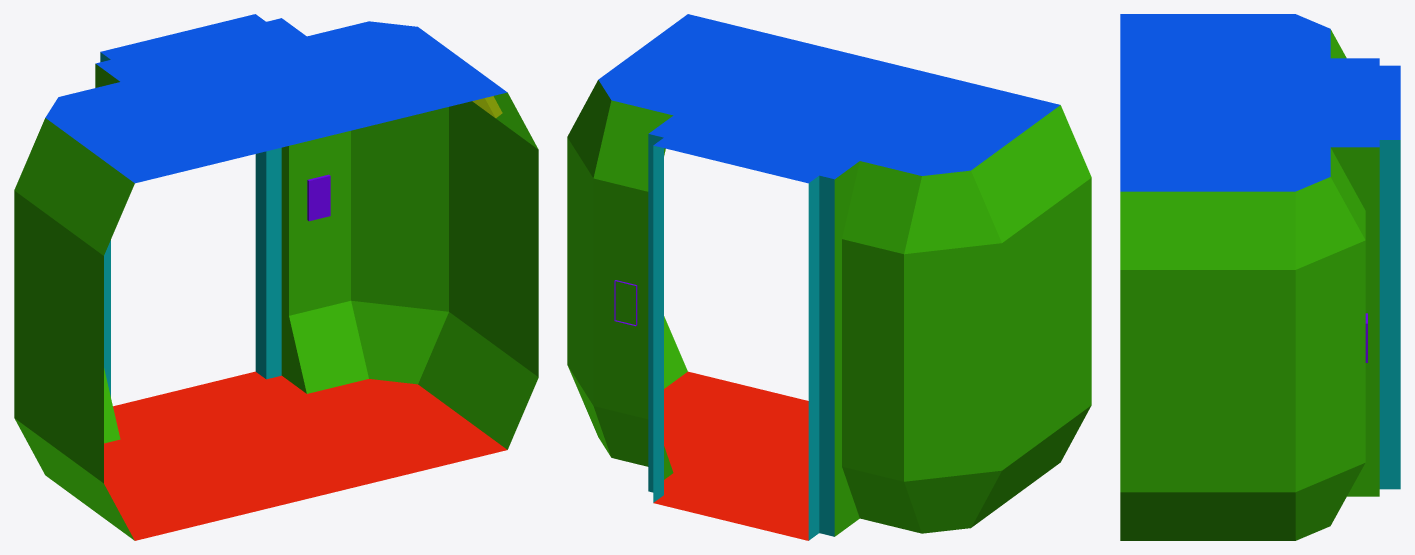
Rendered from hall_end_doorway_w_light.FBX.
3 views of the same model, side by side, from view 1: azimuth 30°, elevation 25°; view 2: azimuth 150°, elevation 25°; view 3: azimuth 270°, elevation 25° (orthographic). The views are drawn at different scales.
Visible parts, largest first — view 1: outer_corner002; view 2: outer_corner002; view 3: outer_corner002.
Part boxes in pixels (<box>): outer_corner002: <box>14,14,538,540</box>; outer_corner002: <box>567,14,1091,540</box>; outer_corner002: <box>1120,14,1400,540</box>.
Size of the model in its own units: 138 by 108 by 78.74.
